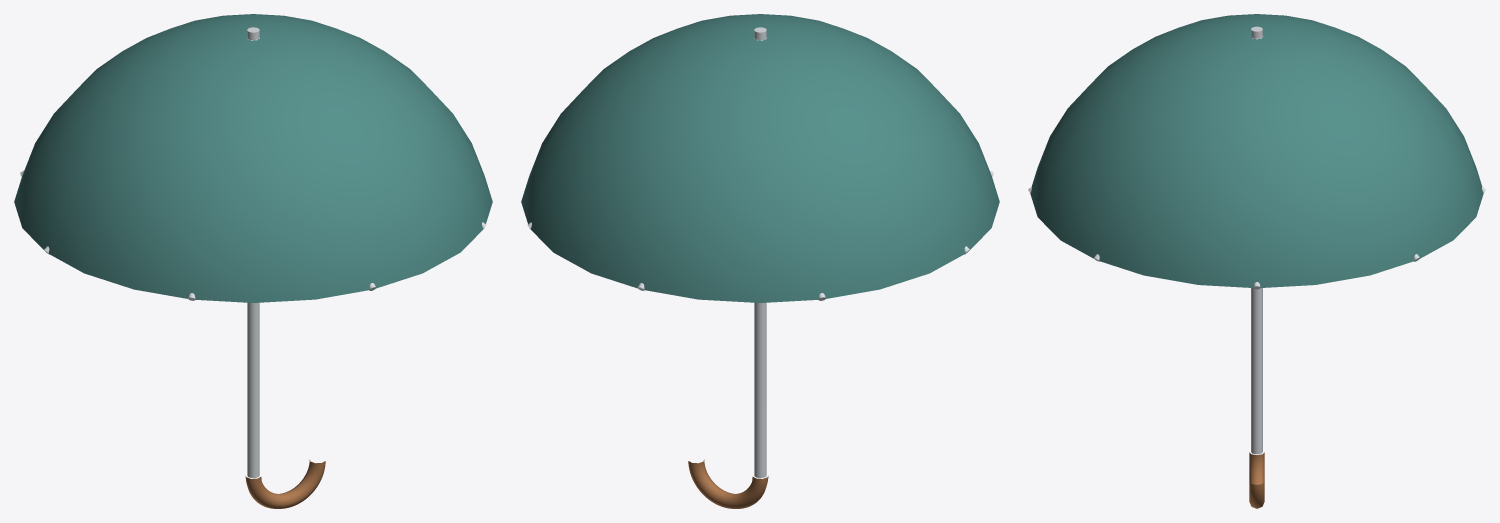
The model's file is wp-parapluie-ouvert.glb.
3 views of the same model, side by side, from view 1: azimuth 30°, elevation 25°; view 2: azimuth 150°, elevation 25°; view 3: azimuth 270°, elevation 25° (orthographic). The views are drawn at different scales.
Parts seen in each view (by area): view 1: wp-parapluie-ouvert; view 2: wp-parapluie-ouvert; view 3: wp-parapluie-ouvert.
Boxes of the visible parts, bbox=[...] form: wp-parapluie-ouvert: bbox=[14, 14, 492, 508]; wp-parapluie-ouvert: bbox=[521, 14, 999, 508]; wp-parapluie-ouvert: bbox=[1028, 14, 1485, 508].
Size of the model in its own units: 0.9 by 1 by 0.9.
